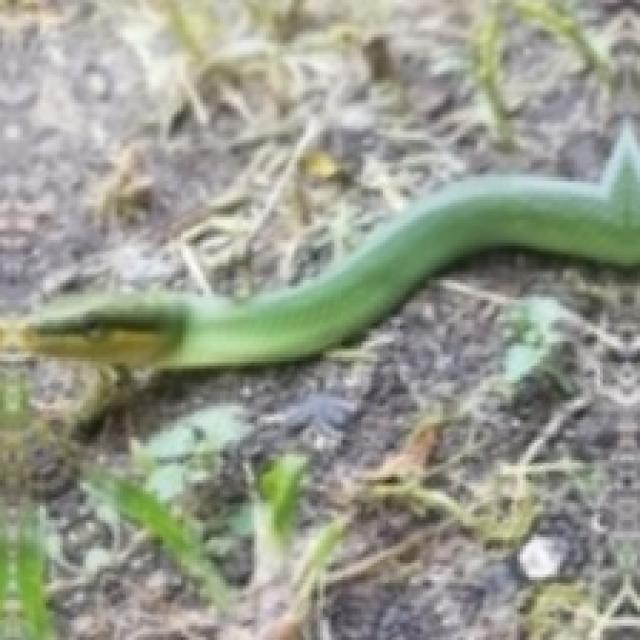red-tailed green ratsnake: (0, 123, 637, 369)
